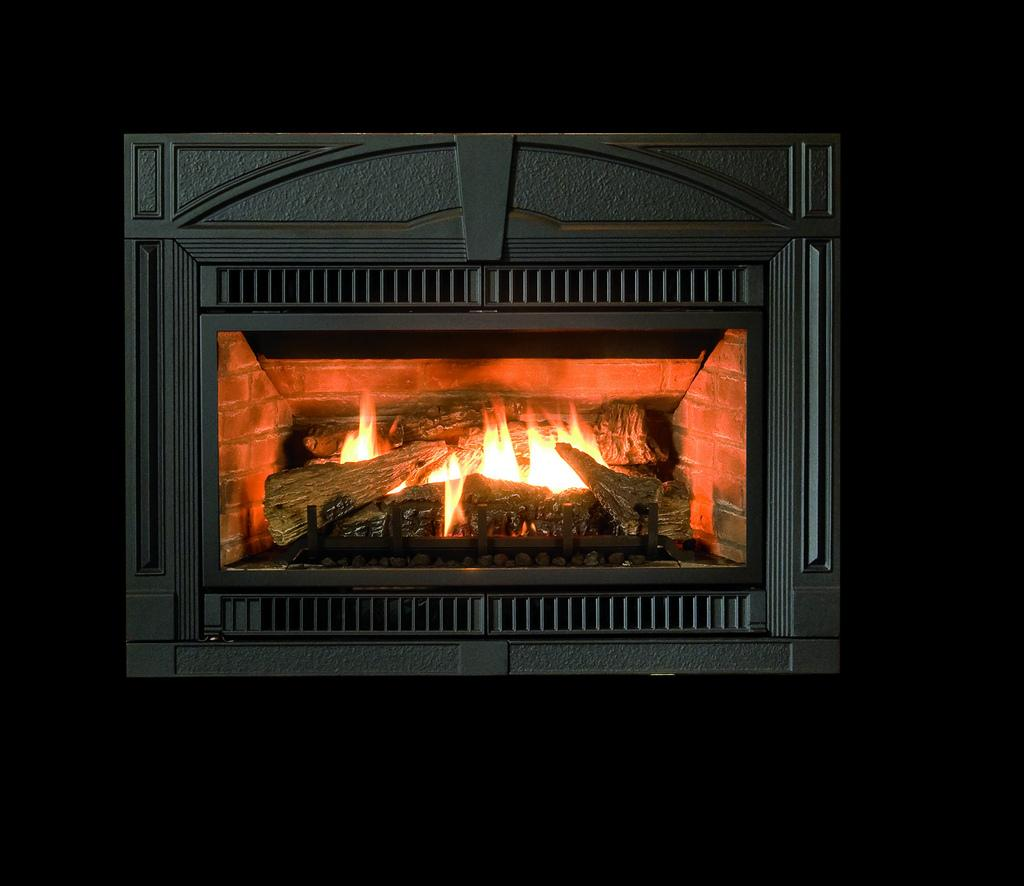fire: (482, 415, 590, 482), (440, 455, 465, 545), (340, 430, 370, 462)
